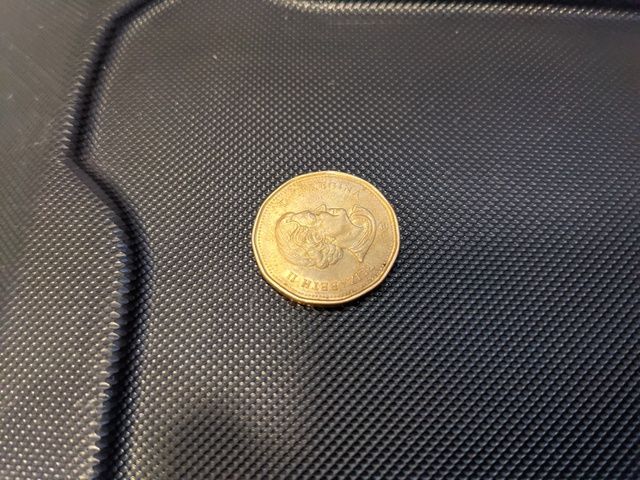loonie: (241, 159, 408, 307)
